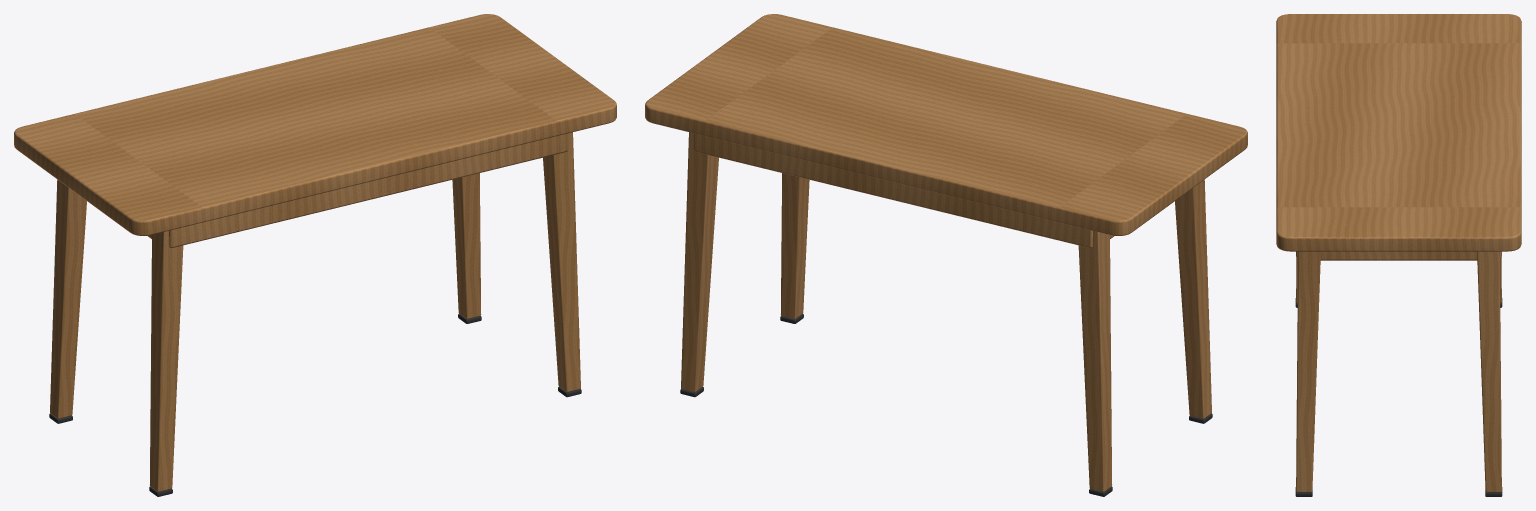
File: table.glb
3 views of the same model, side by side, from view 1: azimuth 30°, elevation 25°; view 2: azimuth 150°, elevation 25°; view 3: azimuth 270°, elevation 25° (orthographic). The views are drawn at different scales.
Visible parts, largest first — view 1: SM_table; view 2: SM_table; view 3: SM_table.
Boxes of the visible parts, x1,y1,x2,y2 form: SM_table: (14,14,616,496); SM_table: (645,14,1247,496); SM_table: (1276,14,1521,496).
Size of the model in its own units: 1.3 by 0.74 by 0.6.
Materials: 2 (1 with a texture image).
